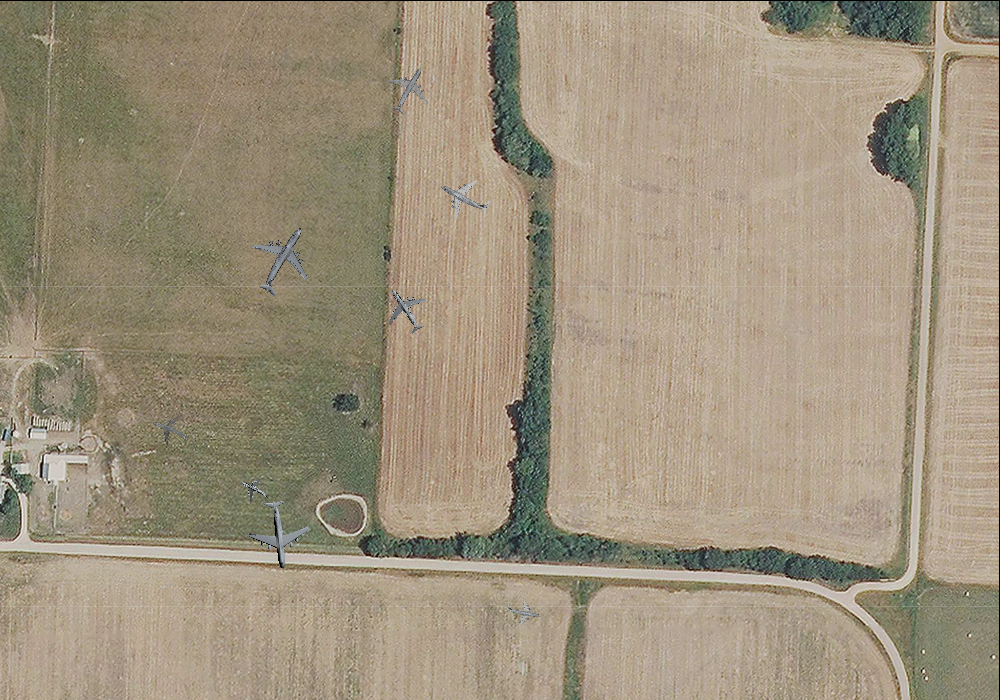plane: (233, 210, 332, 310), (242, 496, 313, 572), (429, 162, 499, 231), (376, 56, 442, 123), (372, 277, 438, 343), (145, 406, 196, 456), (502, 592, 543, 631), (234, 470, 274, 509)
